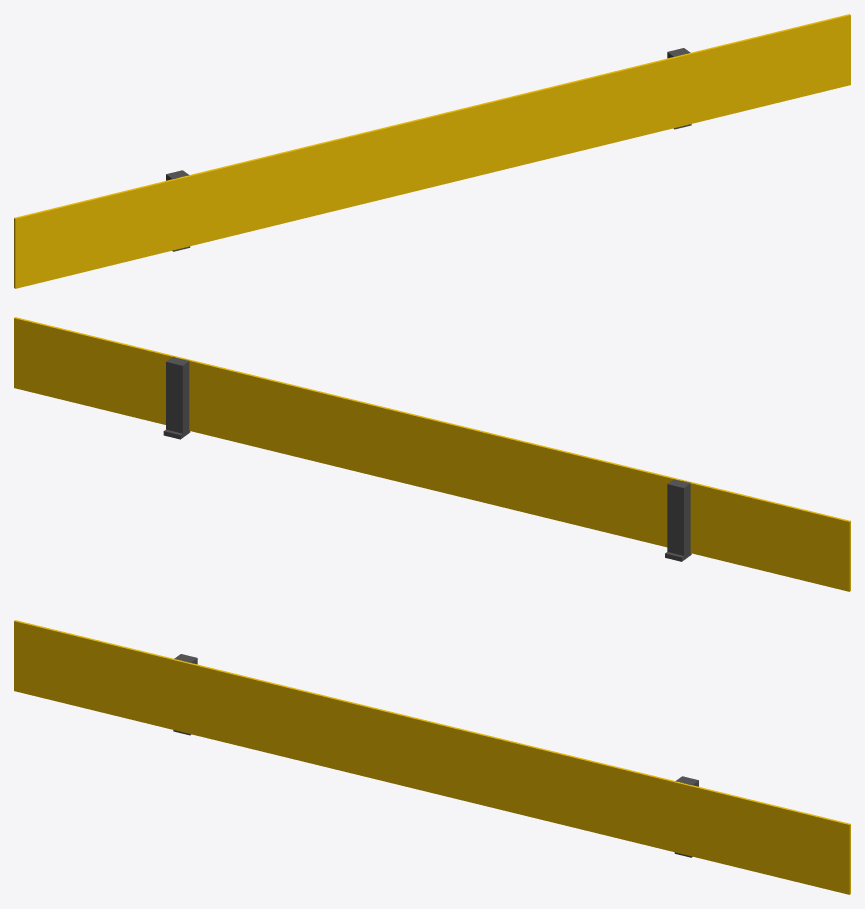
File: side-guide.glb
The picture shows the model from 3 angles, top to bottom: view 1: azimuth 30°, elevation 25°; view 2: azimuth 150°, elevation 25°; view 3: azimuth 330°, elevation 25°; orthographic projection.
Bounding box in the file's own units: 1 × 0.0825 × 0.0215.
